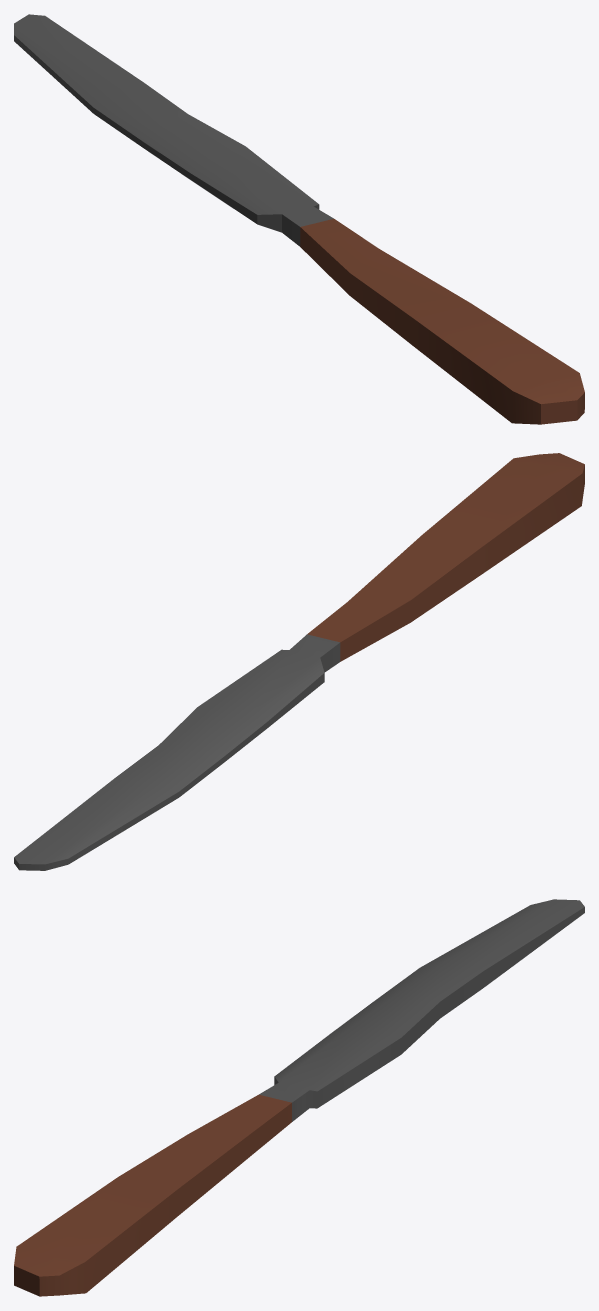
Rendered from Knife.FBX.
3 renders of one model, top to bottom at view 1: azimuth 30°, elevation 25°; view 2: azimuth 150°, elevation 25°; view 3: azimuth 330°, elevation 25°, orthographic. The views are drawn at different scales.
Parts seen in each view (by area): view 1: Kitchen_knife_small_01; view 2: Kitchen_knife_small_01; view 3: Kitchen_knife_small_01.
Boxes of the visible parts, x1=… form: Kitchen_knife_small_01: x1=14, y1=14, x2=584, y2=424; Kitchen_knife_small_01: x1=14, y1=453, x2=584, y2=870; Kitchen_knife_small_01: x1=14, y1=899, x2=584, y2=1296.
Bounding box in the file's own units: 1.16 × 15.31 × 0.504.
